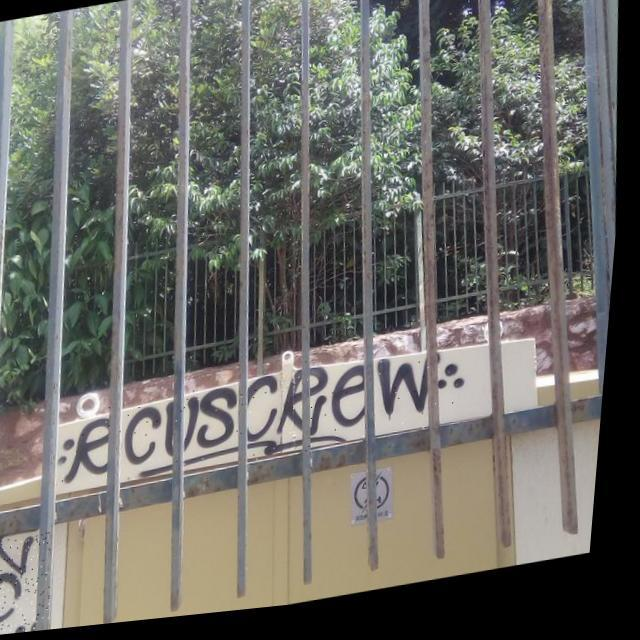-: (62, 352, 478, 496), (0, 530, 67, 638)
